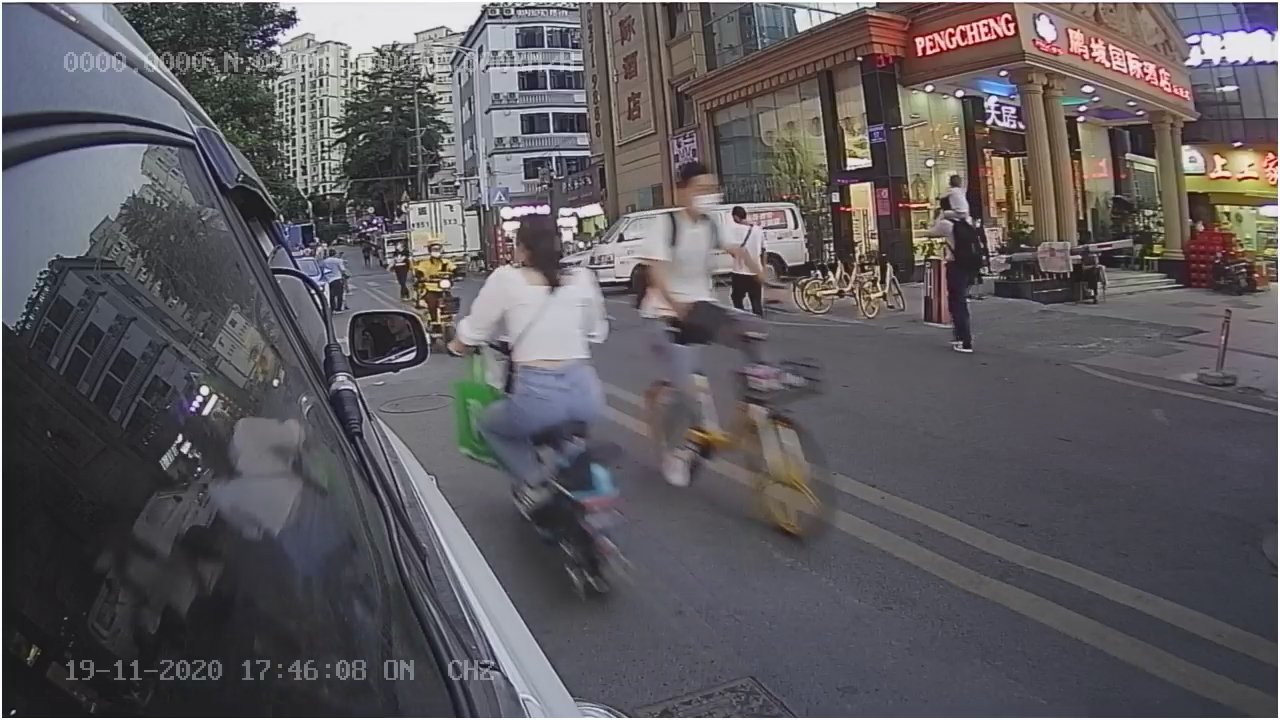person: (471, 215, 620, 444), (645, 166, 764, 366)
